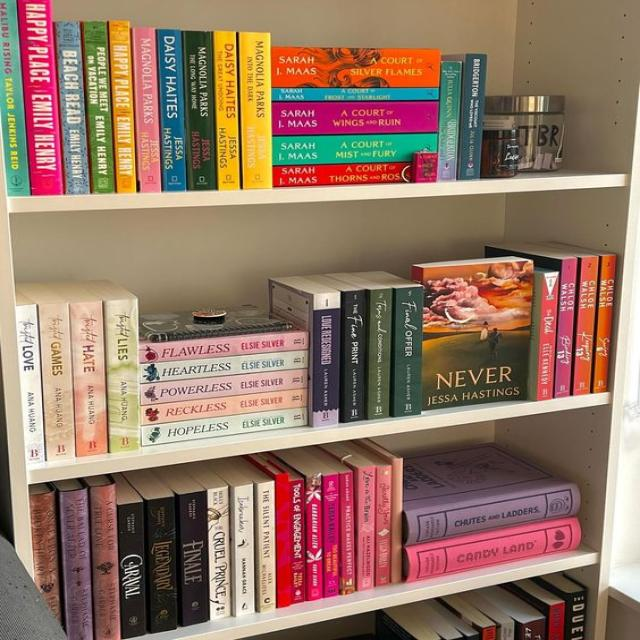book: (403, 519, 577, 583), (404, 483, 577, 547), (17, 0, 66, 196), (272, 47, 442, 88), (140, 407, 308, 447), (53, 22, 90, 194), (140, 388, 307, 426), (139, 370, 308, 405), (70, 302, 108, 457), (38, 303, 74, 461), (82, 21, 115, 193), (1, 1, 30, 195), (138, 332, 310, 364), (58, 488, 94, 640), (139, 351, 308, 383), (271, 102, 440, 134), (104, 299, 139, 452), (239, 32, 273, 189), (183, 30, 215, 190), (15, 305, 47, 463), (272, 135, 436, 165), (91, 483, 122, 640), (133, 28, 162, 193), (157, 28, 186, 192), (107, 21, 134, 193), (213, 32, 240, 191), (30, 492, 61, 629), (148, 496, 176, 634), (180, 490, 208, 626), (394, 286, 423, 417), (572, 258, 599, 396), (458, 53, 487, 179), (313, 292, 340, 427), (272, 163, 412, 187), (207, 486, 232, 620), (119, 502, 143, 640), (592, 255, 616, 393), (554, 258, 576, 398), (368, 287, 391, 419), (537, 272, 560, 401), (343, 289, 365, 423), (436, 62, 460, 180), (234, 485, 255, 617), (257, 481, 276, 612), (356, 467, 374, 590), (322, 475, 339, 598), (306, 473, 322, 601), (374, 466, 391, 585), (289, 479, 305, 603), (339, 472, 355, 595), (275, 473, 289, 608), (272, 89, 440, 100)
